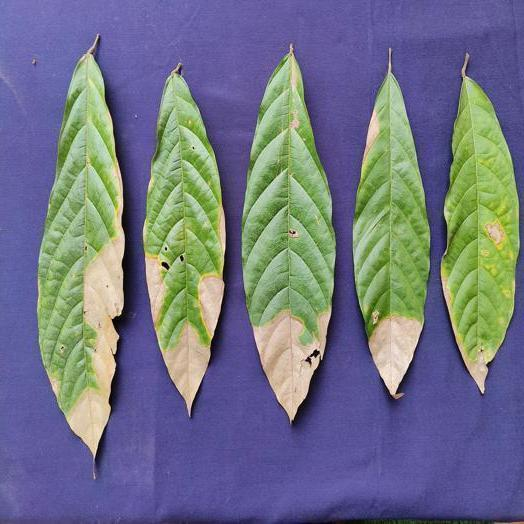Potassium: (37, 35, 124, 459), (242, 46, 335, 421), (143, 64, 225, 415), (353, 49, 429, 398), (441, 55, 519, 393)
